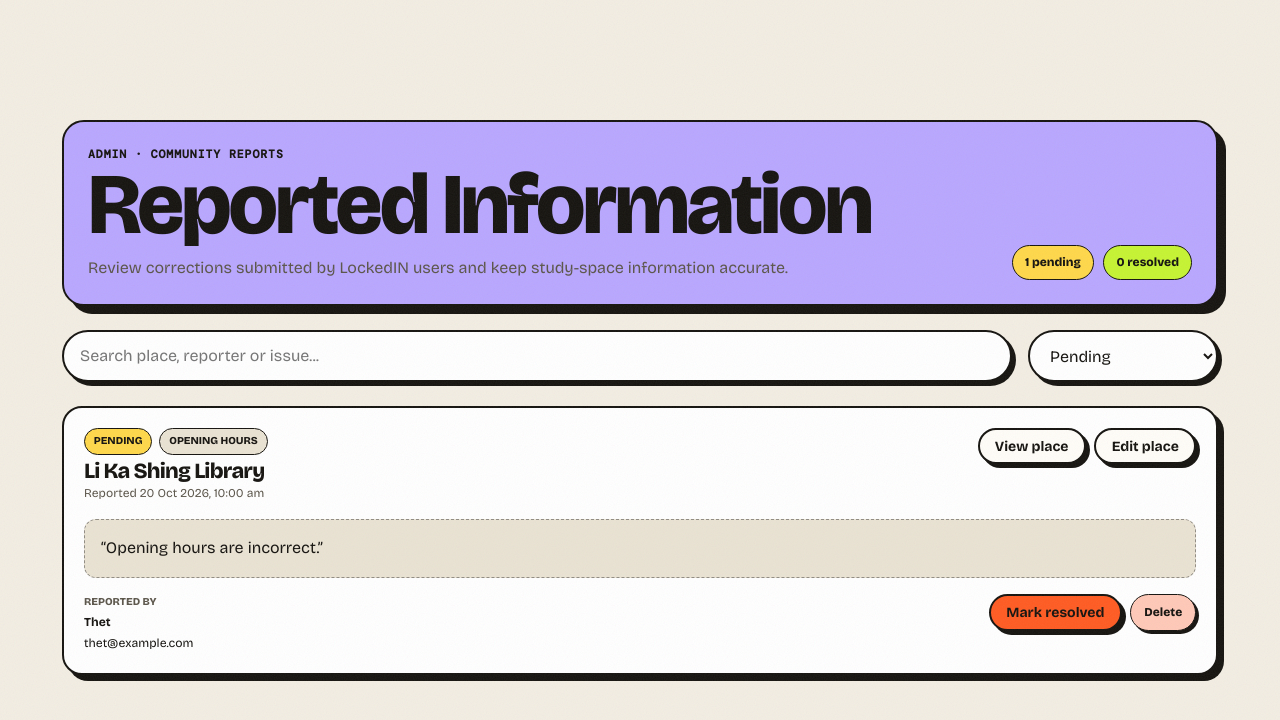
AdminReportsView › opens the delete modal and deletes a report
Click the button with class "report-delete". click: [1163, 613]
box: [1130, 594, 1196, 631]
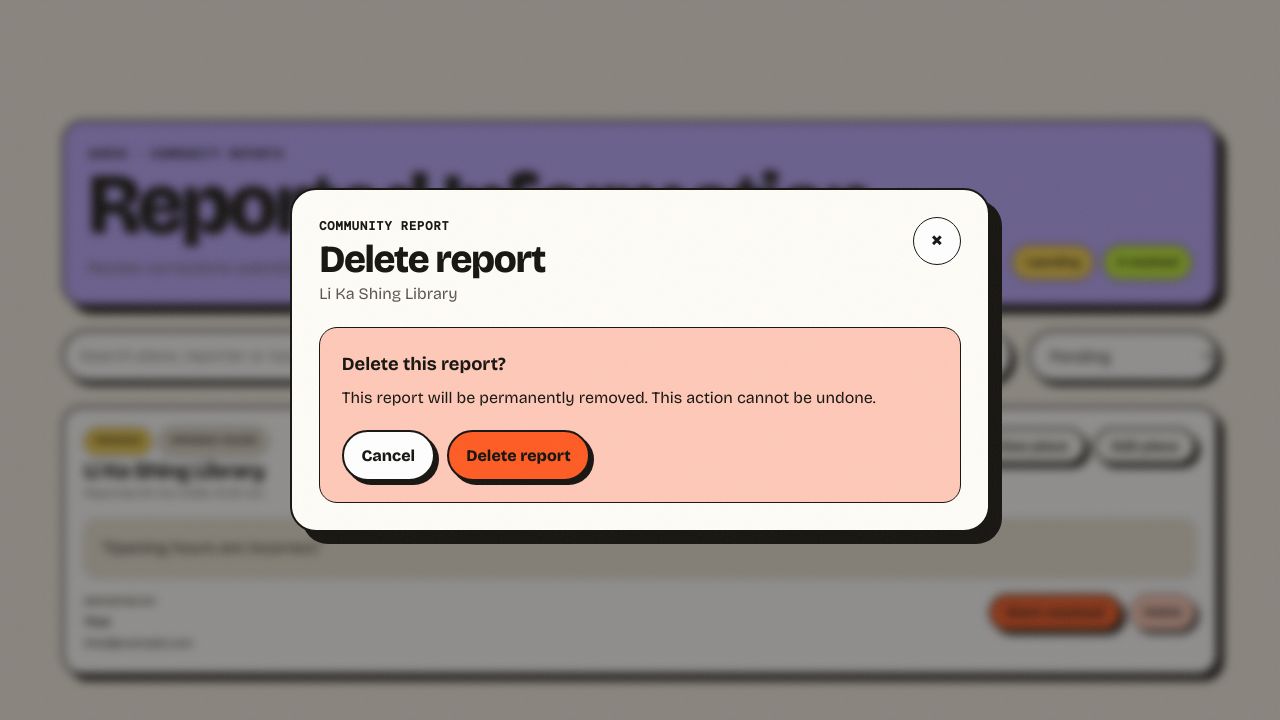
expect the element with class "confirm-overlay" is shown: met
expect the text "Delete this report?" is shown: met, box [342, 352, 506, 374]
Click the button with class "confirm-delete". click: [518, 455]
box: [447, 430, 590, 480]
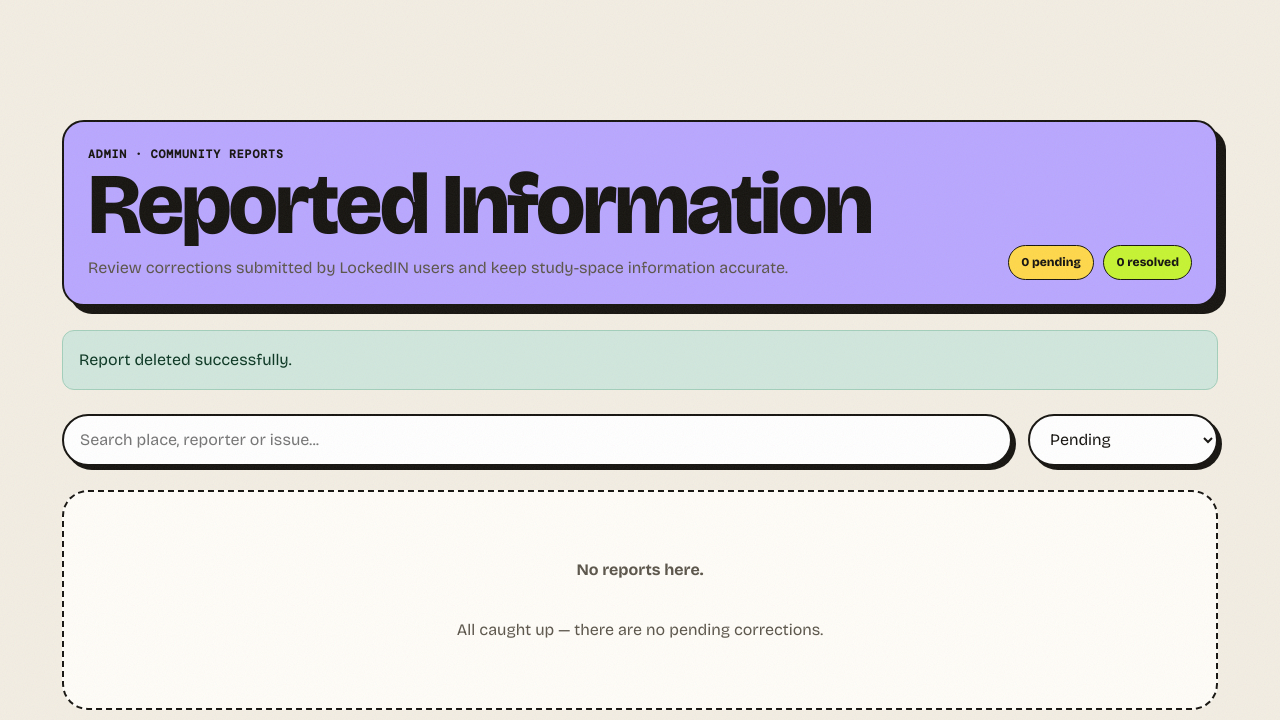
expect the text "Report deleted successfully." is shown: met, box [62, 330, 1218, 390]
